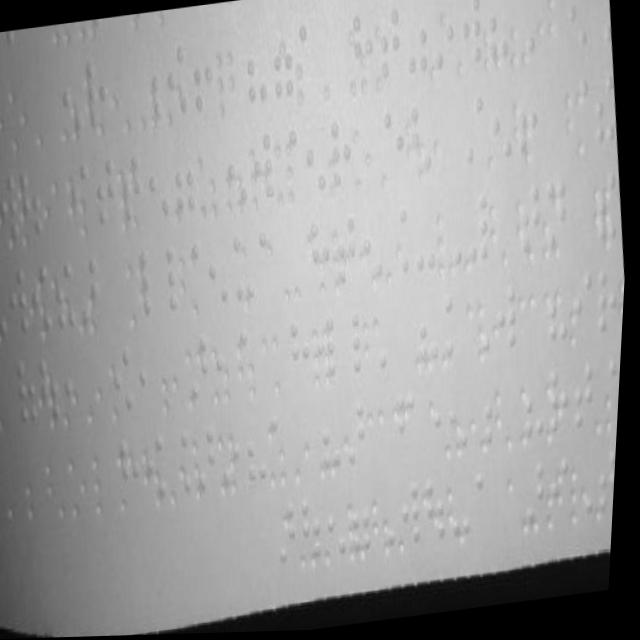braiile: (237, 22, 275, 108), (185, 33, 221, 120), (80, 48, 115, 135), (398, 0, 435, 82), (324, 114, 360, 194), (461, 188, 497, 265), (319, 402, 354, 479), (414, 294, 449, 371), (150, 238, 184, 317), (587, 71, 621, 150), (515, 182, 550, 258), (494, 284, 528, 361), (89, 152, 123, 229), (521, 365, 553, 446), (439, 188, 470, 271), (571, 358, 604, 435), (592, 265, 625, 342), (411, 198, 444, 275), (170, 140, 203, 217), (374, 5, 407, 81), (244, 412, 276, 489), (110, 343, 142, 420), (5, 261, 37, 338), (144, 145, 176, 222), (302, 123, 334, 200), (486, 90, 518, 167), (339, 308, 372, 382), (454, 0, 488, 71), (344, 397, 376, 472), (196, 420, 227, 497), (205, 234, 237, 308), (361, 205, 390, 285), (525, 460, 557, 532), (400, 478, 431, 551), (351, 481, 381, 555), (558, 0, 594, 60), (482, 0, 514, 67), (451, 472, 480, 543), (472, 380, 502, 448), (509, 0, 541, 62), (0, 170, 27, 240), (582, 0, 615, 54), (597, 452, 621, 520)
